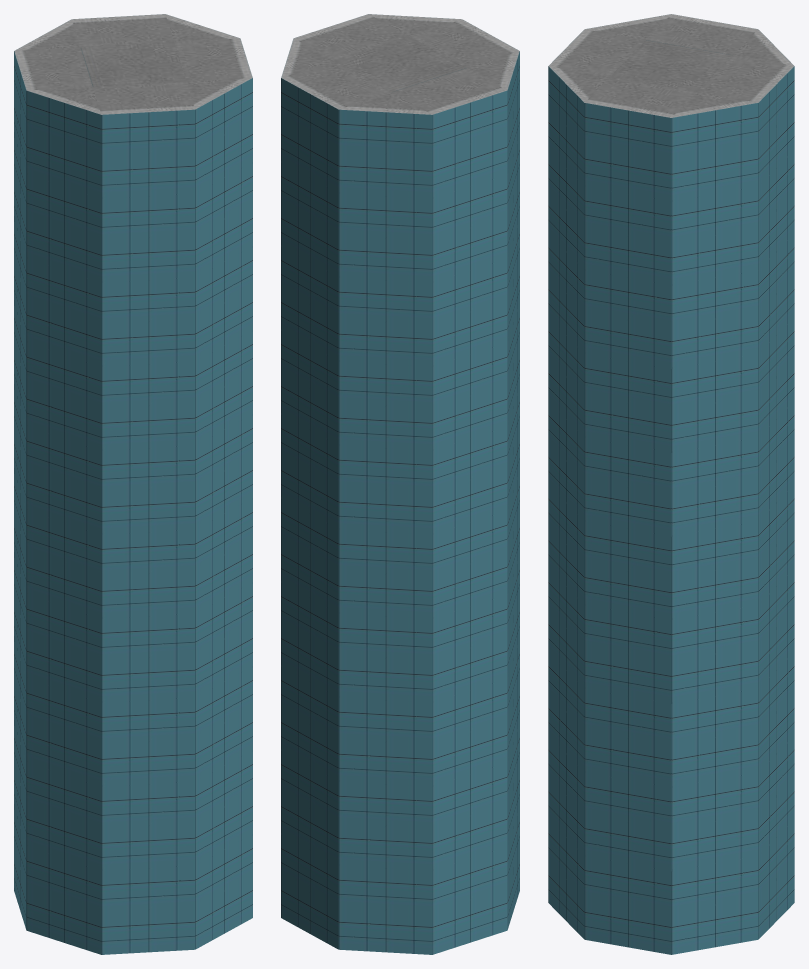
Rendered from building_-_octagonal_-_shiny.glb.
The picture shows the model from 3 angles, left to right: view 1: azimuth 30°, elevation 25°; view 2: azimuth 150°, elevation 25°; view 3: azimuth 270°, elevation 25°; orthographic projection.
Parts seen in each view (by area): view 1: Building_octagon; view 2: Building_octagon; view 3: Building_octagon.
Boxes of the visible parts, x1=… form: Building_octagon: x1=14, y1=14, x2=252, y2=954; Building_octagon: x1=281, y1=14, x2=519, y2=954; Building_octagon: x1=548, y1=14, x2=794, y2=954.
Size of the model in its own units: 40 by 150 by 40.
Materials: 1 (1 with a texture image).
